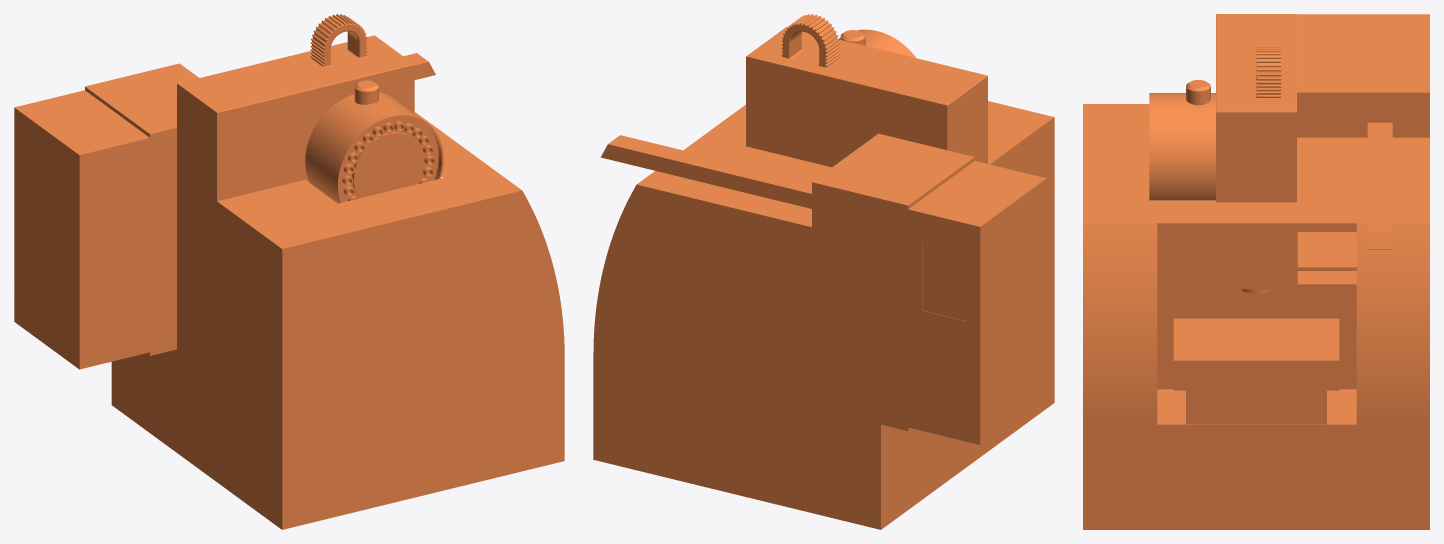
Rendered from case.fbx.
3 views of the same model, side by side, from view 1: azimuth 30°, elevation 25°; view 2: azimuth 150°, elevation 25°; view 3: azimuth 270°, elevation 25° (orthographic).
Parts seen in each view (by area): view 1: New case M; view 2: New case M; view 3: New case M.
Boxes of the visible parts, box(x1,y1,x2,y2) form: New case M: box(14, 14, 564, 529); New case M: box(593, 14, 1054, 529); New case M: box(1083, 14, 1429, 529).
Size of the model in its own units: 277 by 276 by 209.
